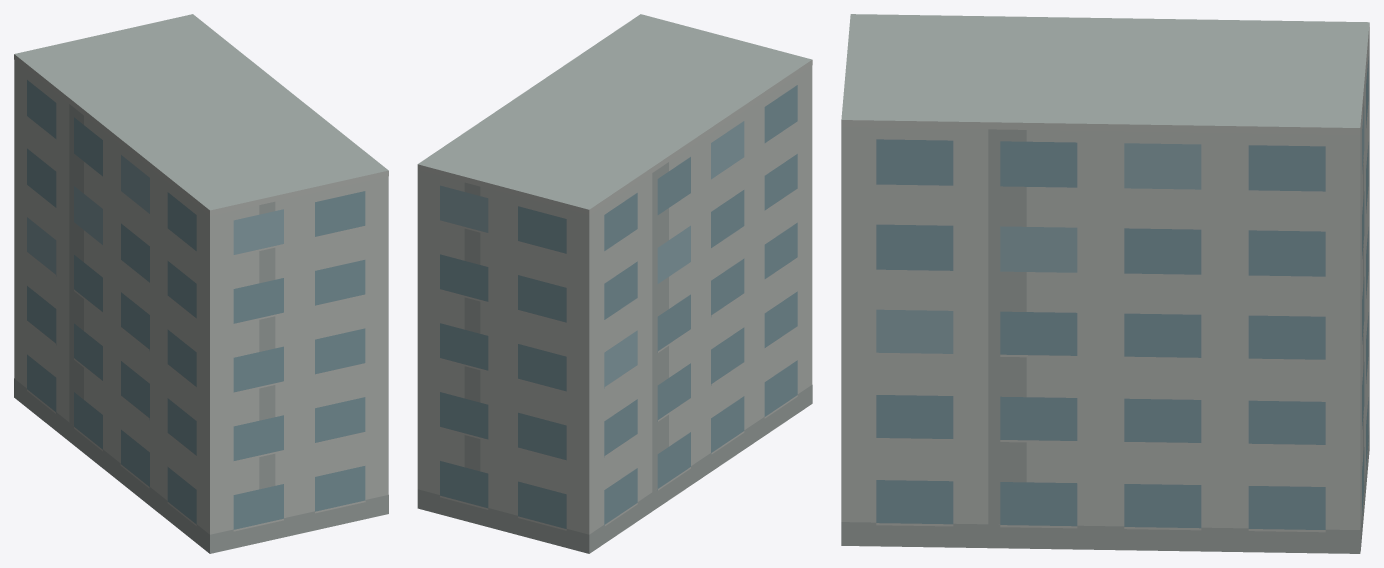
The model's file is survey-upis-32764186.glb.
3 views of the same model, side by side, from view 1: azimuth 30°, elevation 25°; view 2: azimuth 150°, elevation 25°; view 3: azimuth 270°, elevation 25° (orthographic). The views are drawn at different scales.
Visible parts, largest first — view 1: survey-upis-32764186.tmp; view 2: survey-upis-32764186.tmp; view 3: survey-upis-32764186.tmp.
Boxes of the visible parts, bbox=[...] form: survey-upis-32764186.tmp: bbox=[14, 14, 388, 553]; survey-upis-32764186.tmp: bbox=[417, 14, 812, 553]; survey-upis-32764186.tmp: bbox=[841, 14, 1369, 553].
Size of the model in its own units: 8.4 by 14.6 by 16.43.
